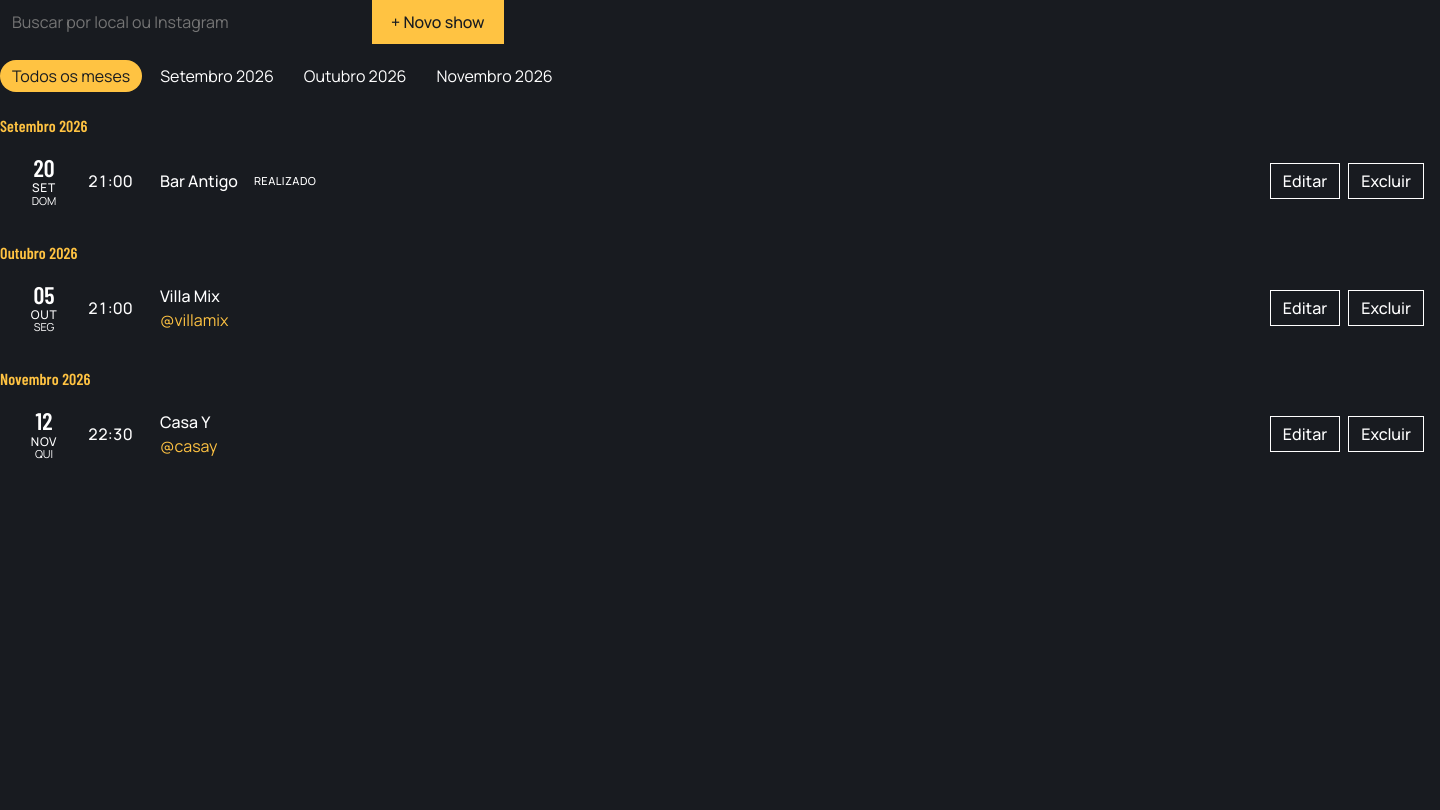
Test: operações › editar: formulário vem preenchido, mostra a auditoria e mantém o modal com o erro do servidor
This screenshot has width=1440, height=810.
Click the button with aria-label "Editar show de 05/10/2026 em Villa Mix": x=1305, y=308 [1270,290,1340,326]
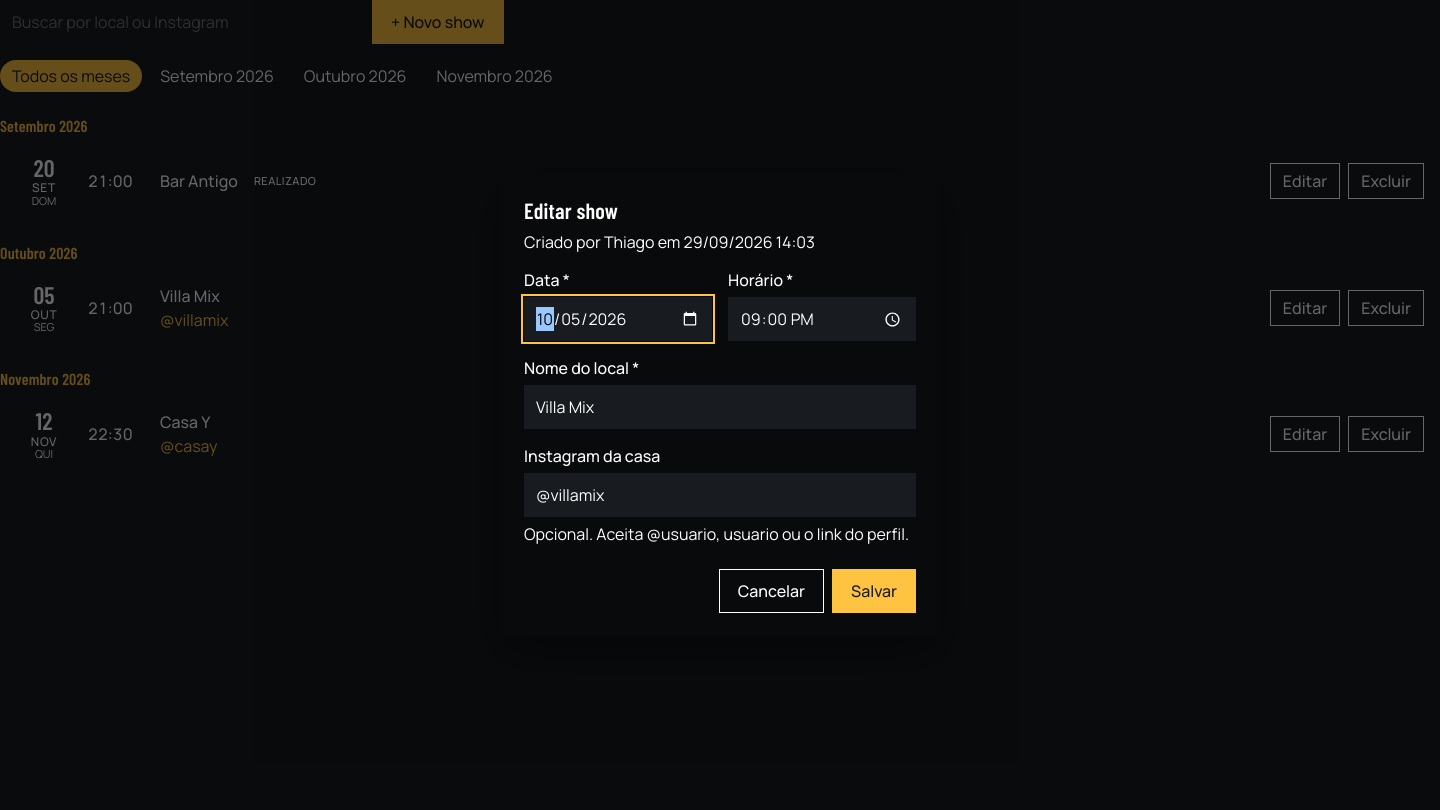
Check: the date field labelled "Data *" holds "2026-10-05", box [524,297,712,341]
Check: the time field labelled "Horário *" holds "21:00"
Check: the field labelled "Instagram da casa" holds "@villamix", box [524,473,916,517]
Replace the text in the time field labelled "Horário *" with "22:00": x=822, y=319 [728,297,916,341]
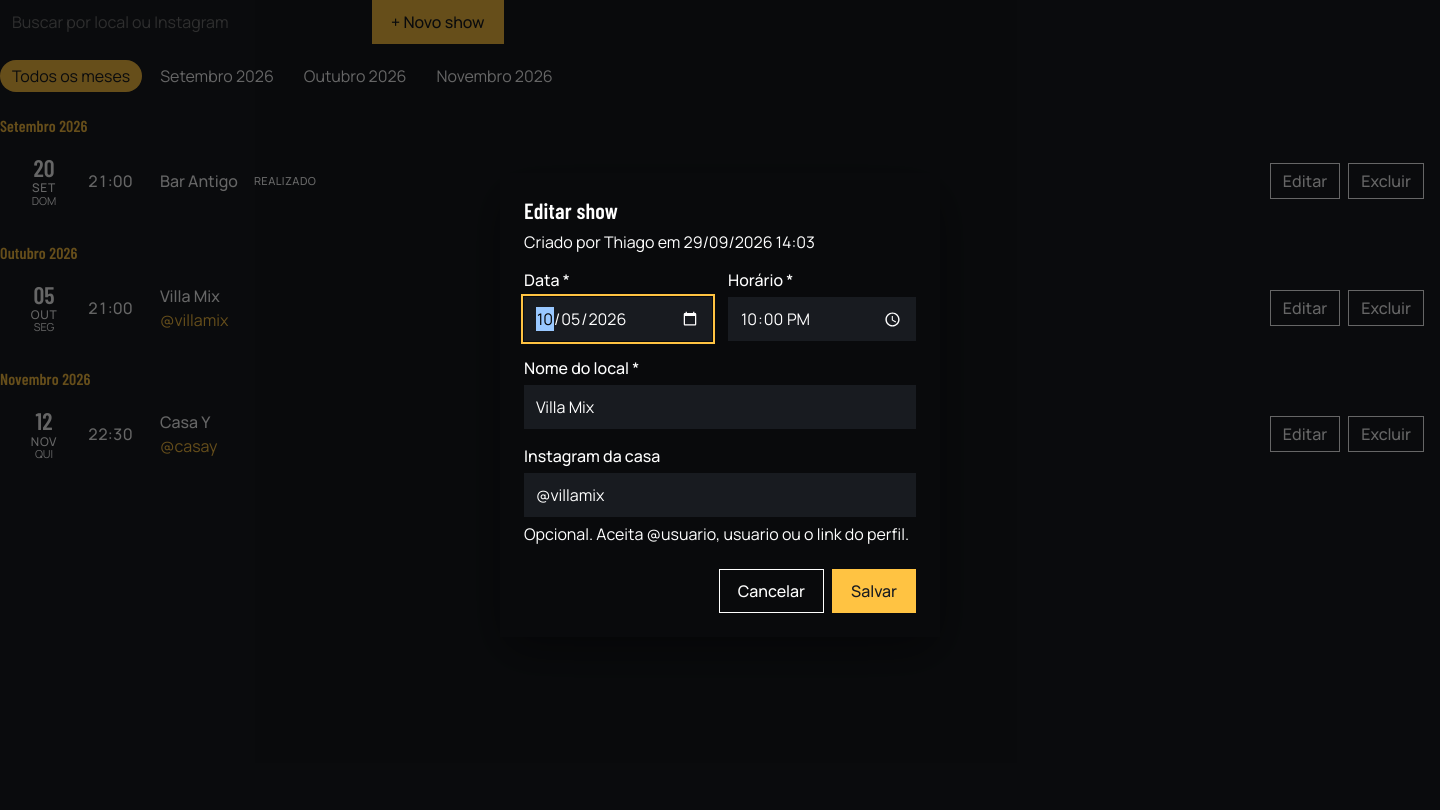
Click the button "Salvar": x=874, y=591 [832,569,916,613]
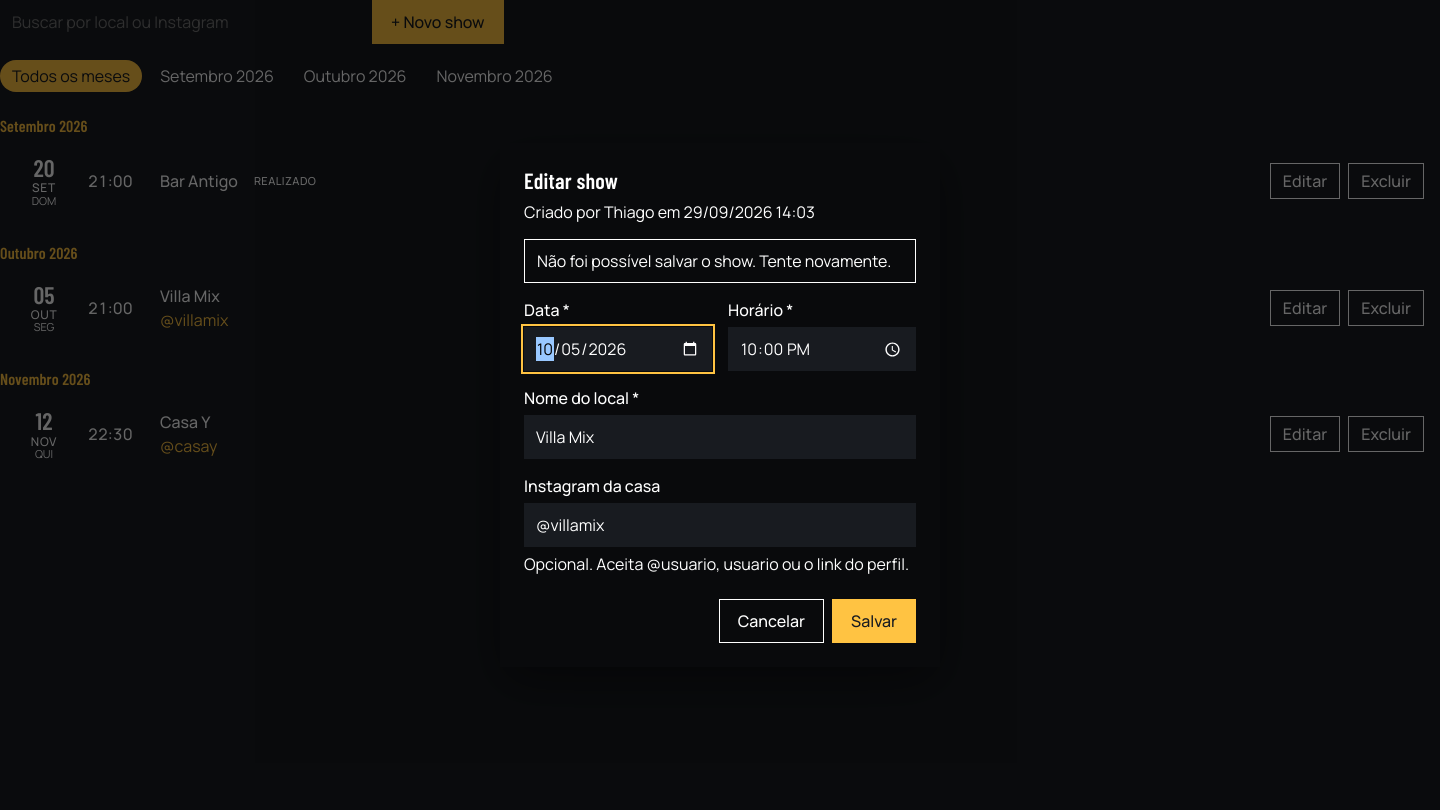
Check: the heading "Editar show" is shown, box [524,167,618,193]
Check: the message reads "Não foi possível salvar o show. Tente novamente.", box [537,250,891,272]
